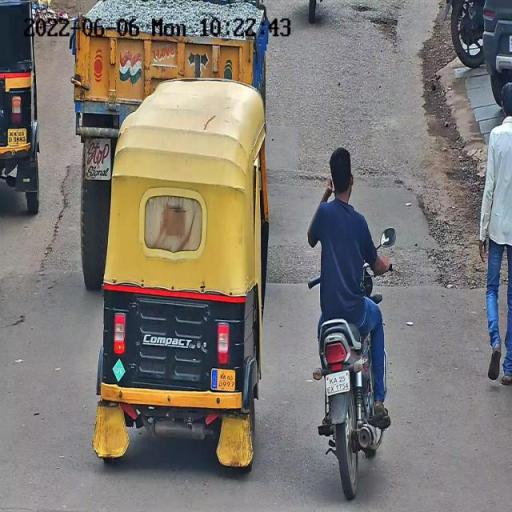numberplate: (324, 370, 354, 396)
using mobile: (324, 176, 336, 198)
